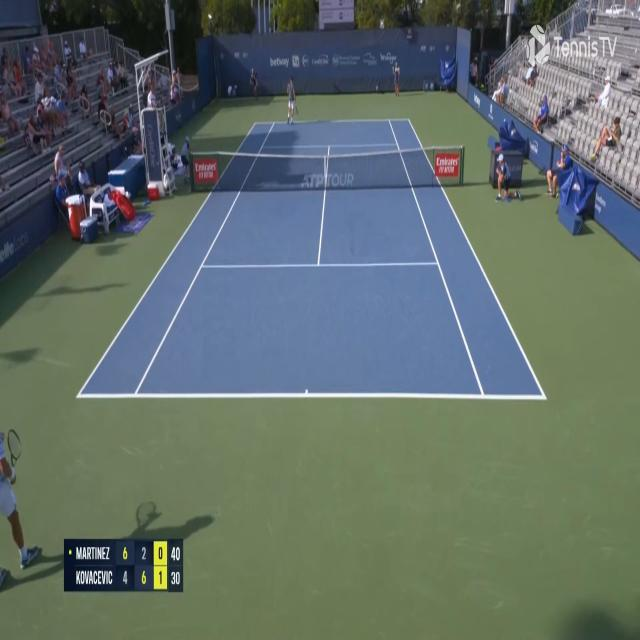tennis-player: (0, 422, 41, 584), (284, 73, 298, 124)
